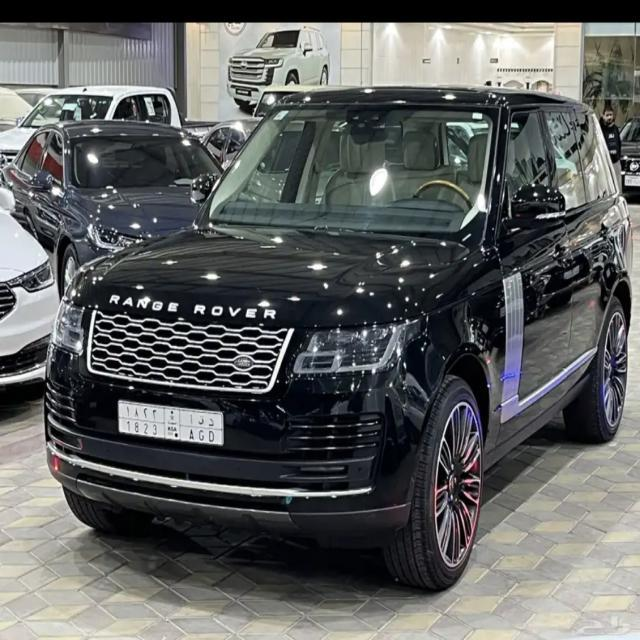license_plate: (118, 398, 225, 446)
